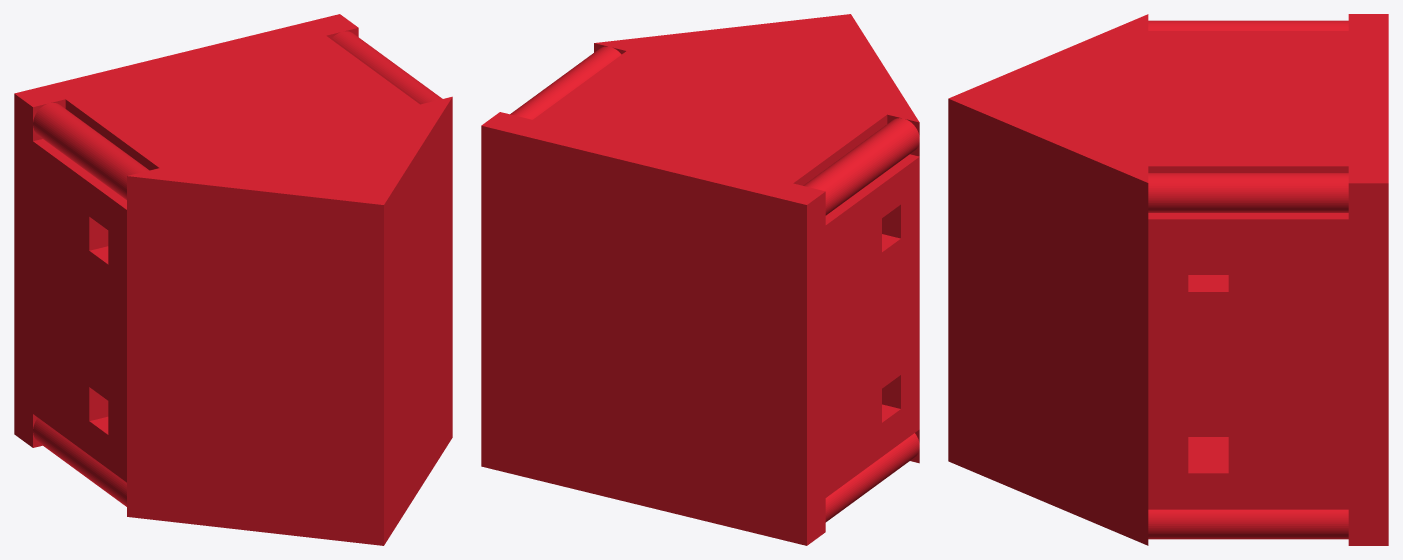
File: tinker.obj
3 views of the same model, side by side, from view 1: azimuth 30°, elevation 25°; view 2: azimuth 150°, elevation 25°; view 3: azimuth 270°, elevation 25° (orthographic). The views are drawn at different scales.
Parts seen in each view (by area): view 1: group_0_15277357; view 2: group_0_15277357; view 3: group_0_15277357.
Boxes of the visible parts, x1,y1,x2,y2 form: group_0_15277357: [14, 14, 452, 545]; group_0_15277357: [481, 14, 919, 545]; group_0_15277357: [948, 14, 1388, 545].
Bounding box in the file's own units: 30 × 30 × 33.
